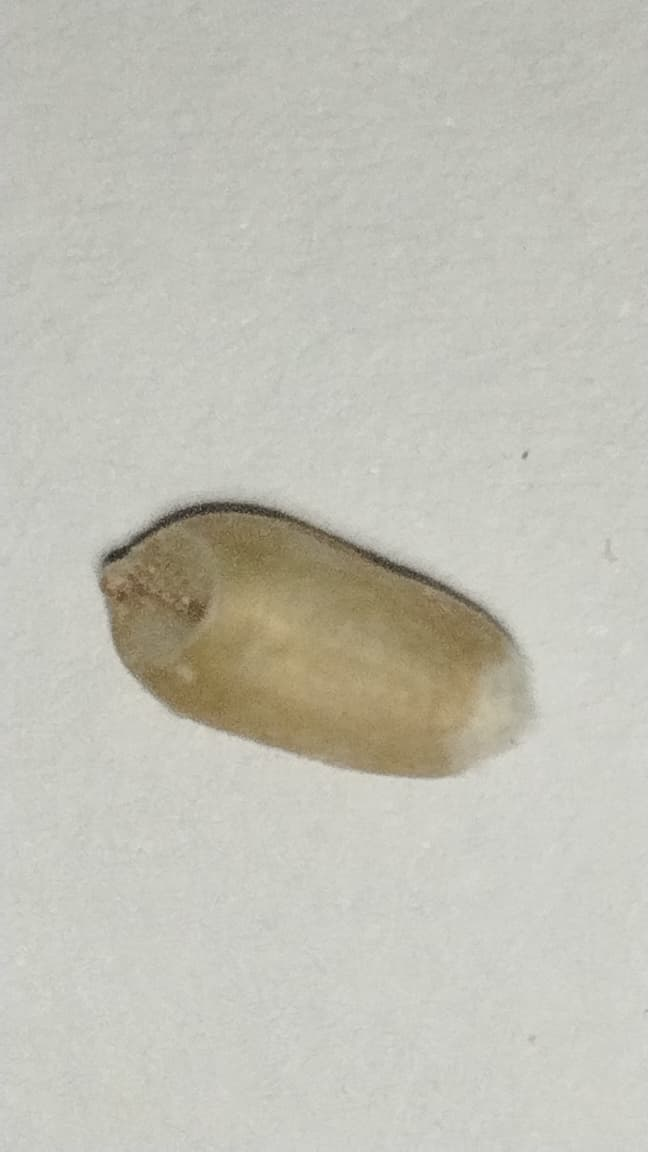damage: (95, 499, 531, 778)
insectdamage: (76, 517, 264, 679), (450, 641, 533, 768)
